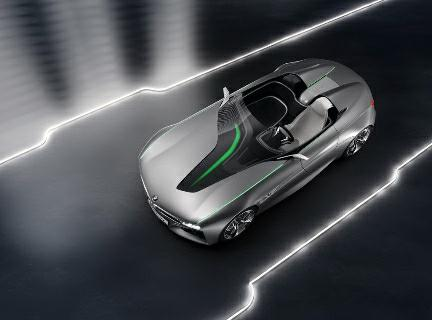宝马-ConnectedDrive: (134, 52, 382, 250)
